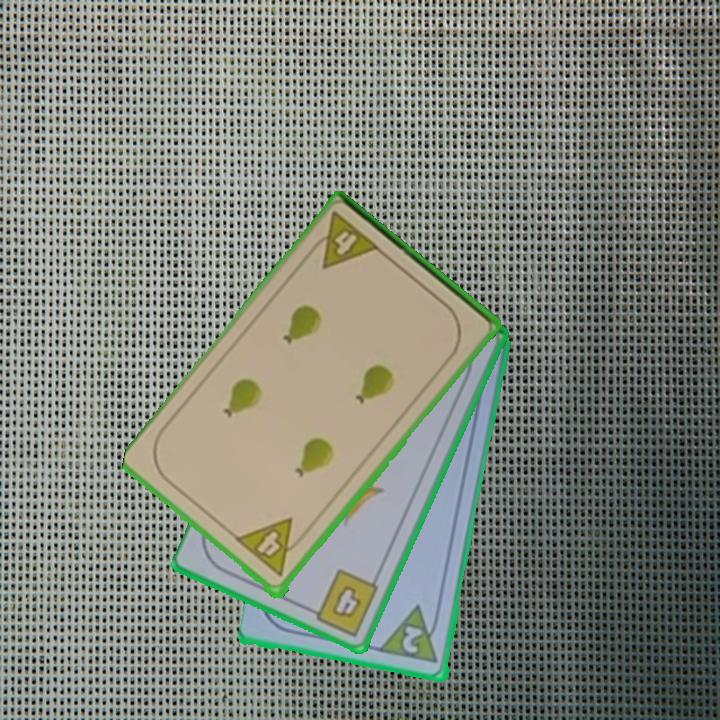2p: (399, 622, 427, 657)
4b: (304, 565, 382, 640)
4p: (303, 208, 383, 273), (233, 515, 310, 581)
